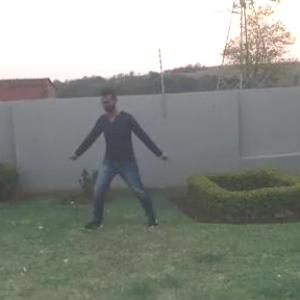land: (65, 74, 175, 235)
